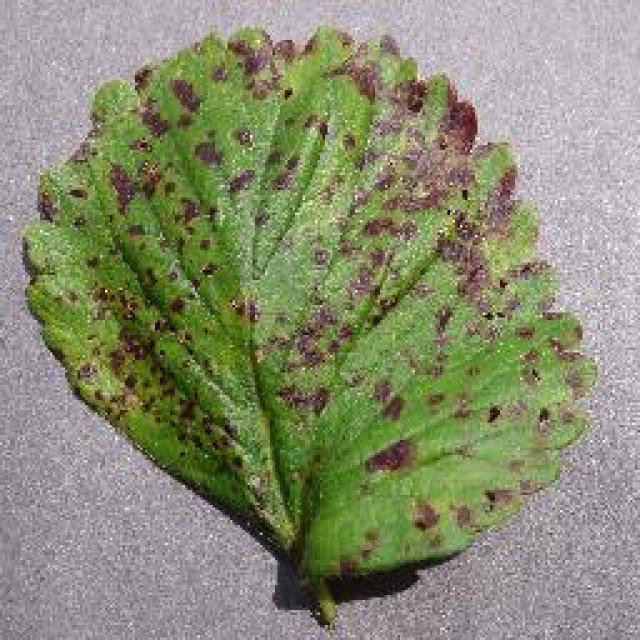Strawberry leaf scorch: (103, 83, 550, 465)
